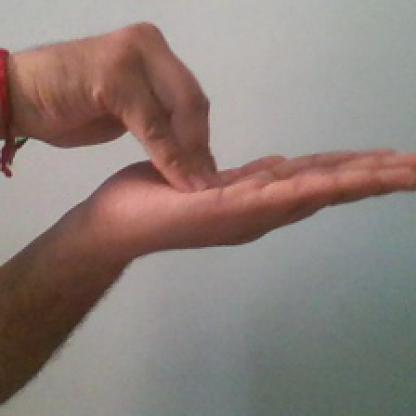Z: (27, 19, 414, 232)
